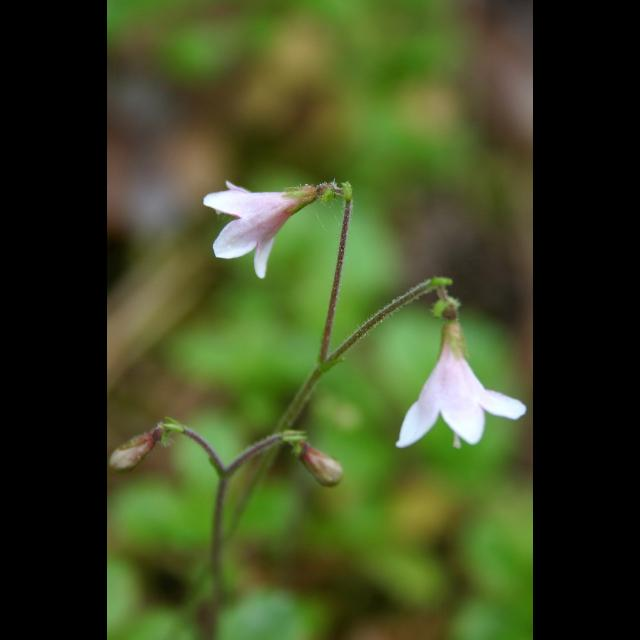Flower: (392, 324, 528, 451), (202, 168, 342, 268)
